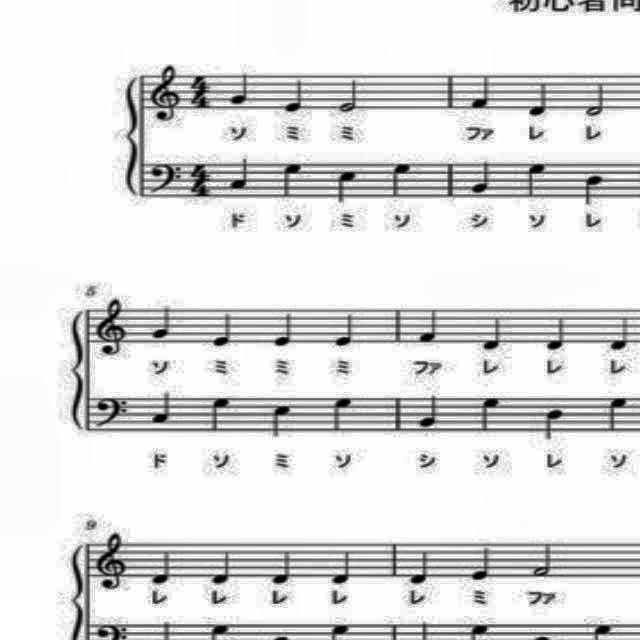Bass-clef: (90, 391, 134, 429), (147, 158, 185, 196)
Half-note: (530, 540, 562, 582), (334, 79, 366, 117), (583, 78, 609, 122)
Quarter-note: (467, 65, 499, 115), (472, 392, 506, 438), (467, 150, 499, 198), (605, 388, 635, 439), (266, 399, 298, 445), (208, 304, 236, 356), (330, 392, 362, 436), (525, 74, 553, 122), (277, 160, 305, 208), (270, 307, 298, 355), (330, 310, 362, 352), (408, 542, 436, 590), (466, 543, 498, 585), (328, 543, 357, 589), (207, 394, 237, 438), (477, 311, 508, 353), (605, 315, 635, 357), (147, 386, 176, 429), (280, 74, 308, 118), (388, 158, 416, 202), (204, 549, 236, 587), (413, 306, 443, 346), (266, 548, 296, 588), (225, 155, 253, 197), (524, 157, 548, 205), (540, 402, 568, 443), (542, 314, 572, 352), (226, 69, 254, 109), (149, 304, 177, 344), (148, 548, 176, 588), (583, 167, 609, 210), (412, 392, 443, 428), (332, 166, 361, 204)
Treble-clef: (91, 530, 133, 594), (91, 297, 131, 363), (148, 62, 184, 126)
